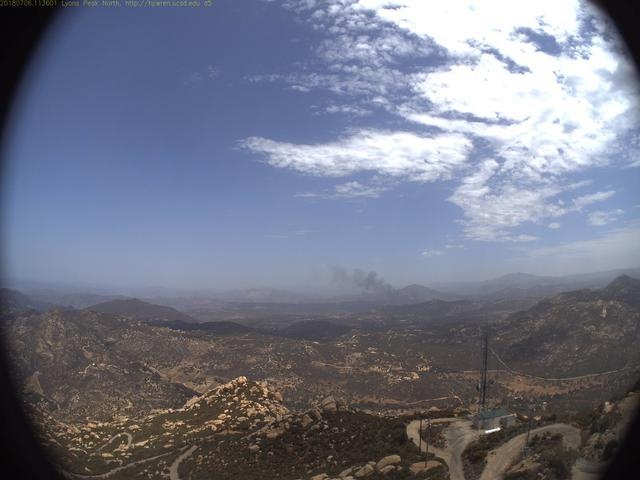smoke: (308, 255, 413, 307)
